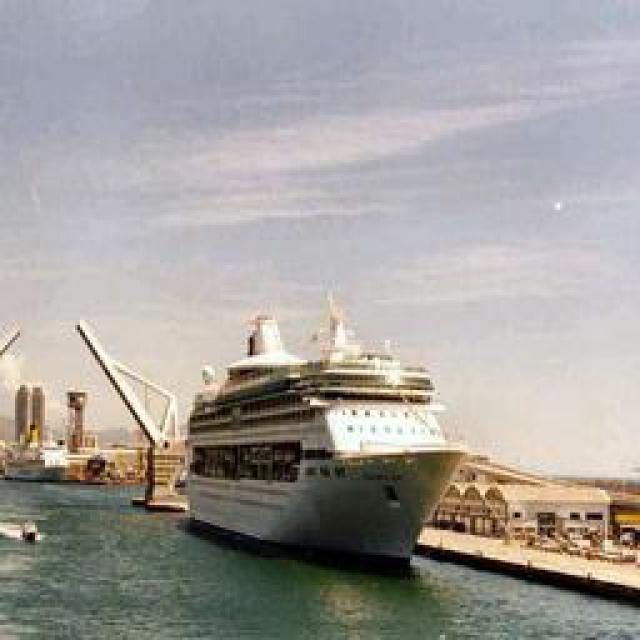Ship: (185, 286, 470, 571)
